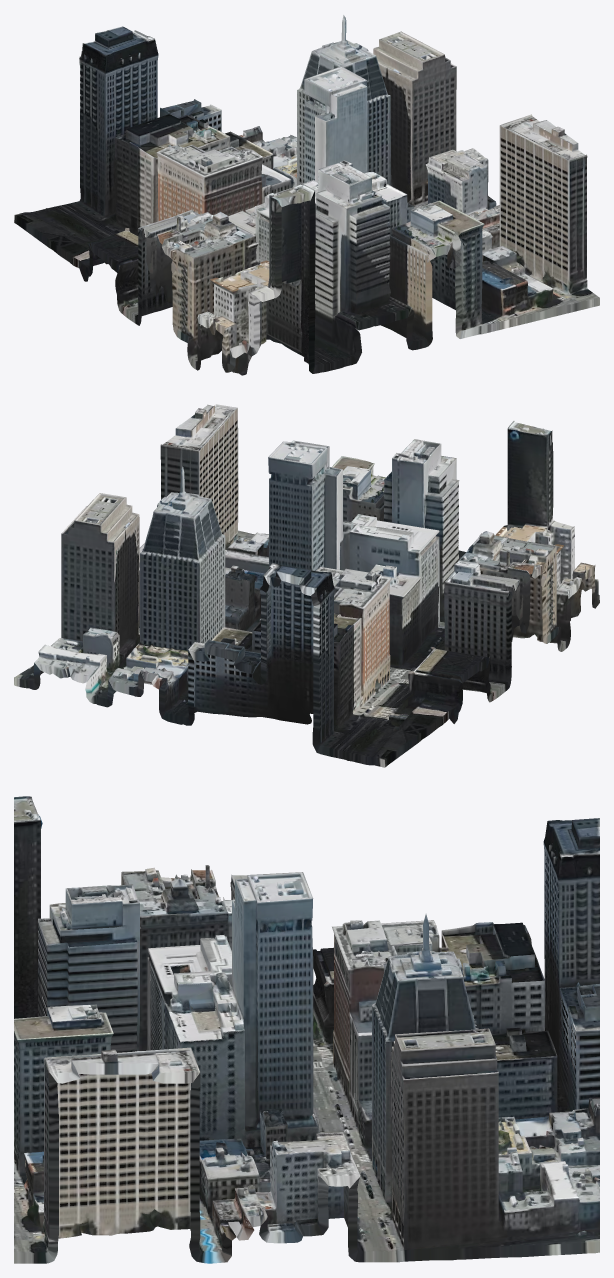
File: z17-20970-50653-h0-yup-uvflip-v3-world.glb
3 renders of one model, top to bottom at view 1: azimuth 30°, elevation 25°; view 2: azimuth 150°, elevation 25°; view 3: azimuth 270°, elevation 25°, orthographic. The views are drawn at different scales.
Size of the model in its own units: 242 by 128 by 243.
Materials: 1 (1 with a texture image).
